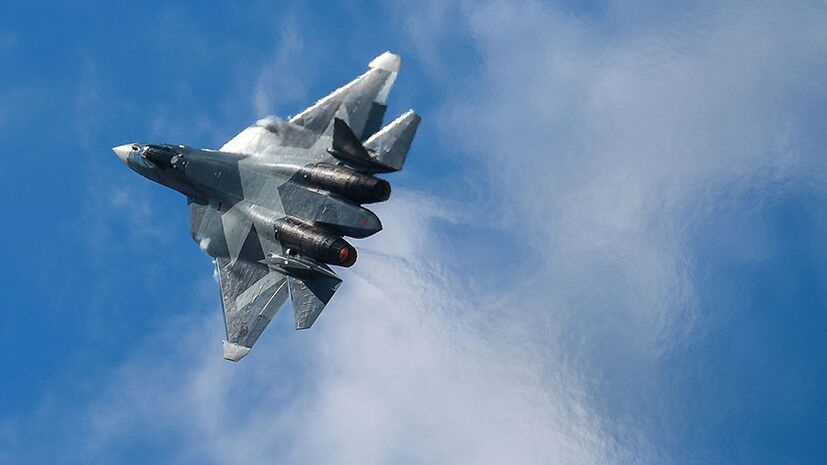airplane: (112, 46, 425, 365)
